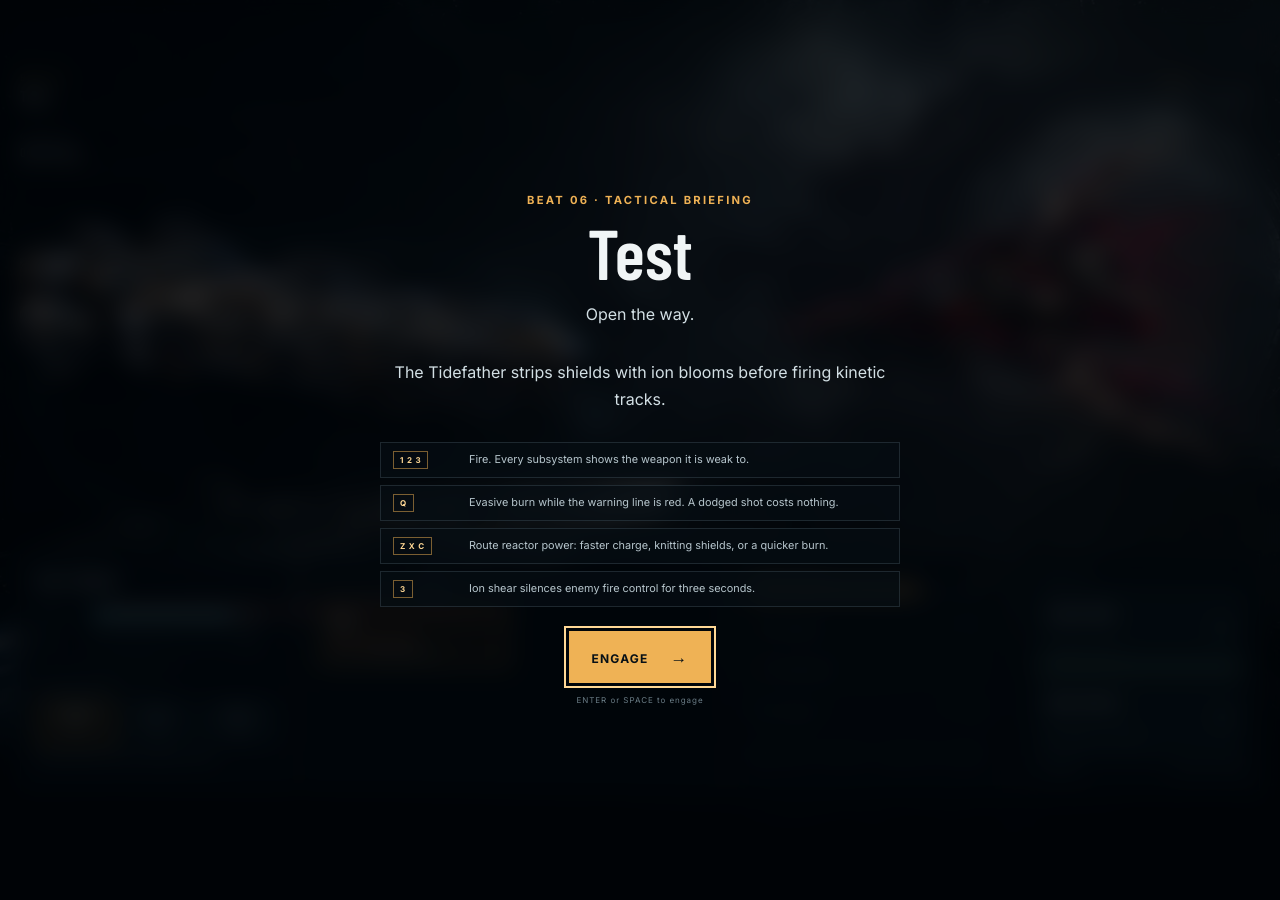
Test: combat input and simulation adversaries › retry clears a decision, delayed effects and cooldowns from a lost attempt
Click the button "Engage →" at (640, 657), box [570, 631, 710, 683]
Wait 8200 ms
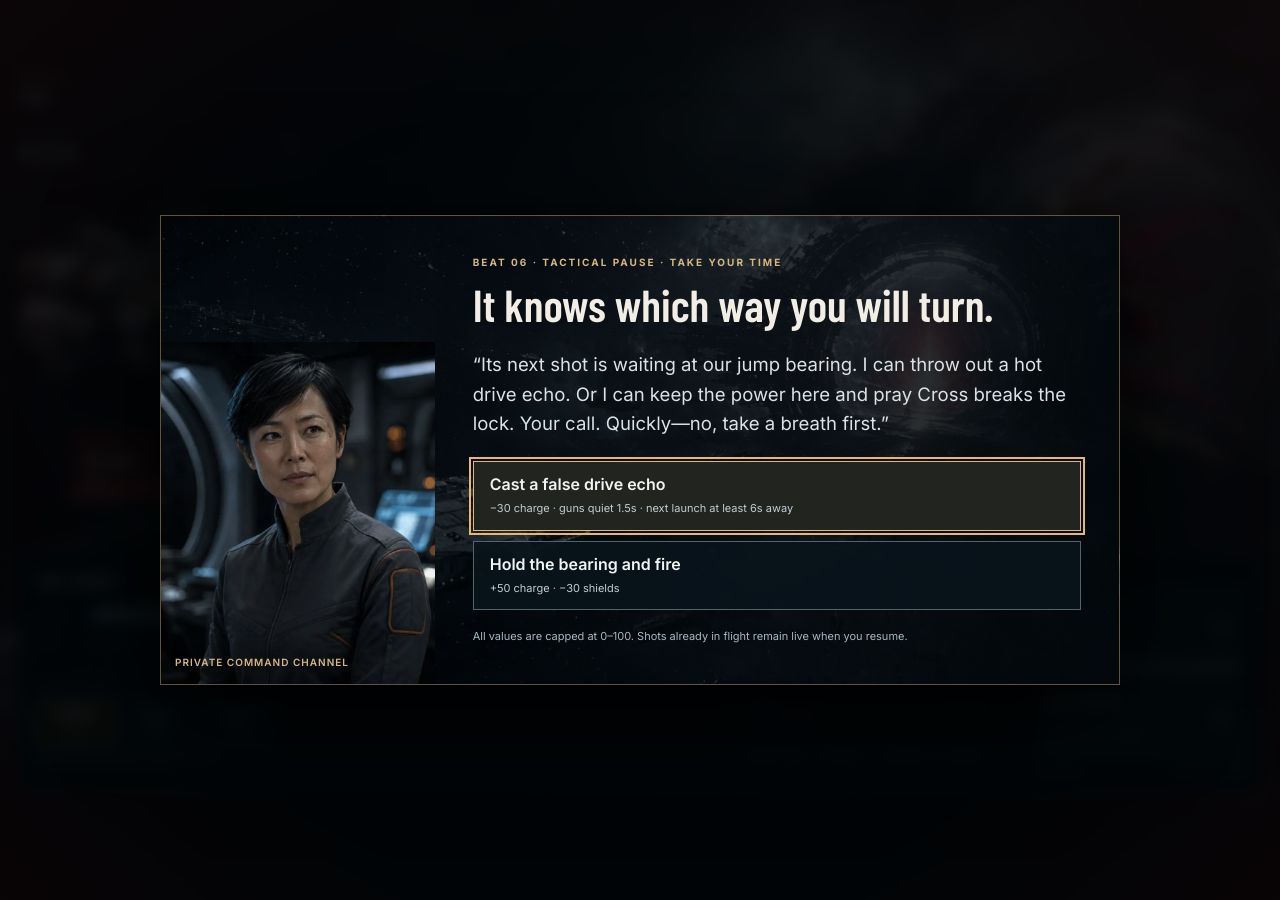
Click the button "Hold the bearing and fire +50 charge · −30 shields" at (585, 564), box [473, 541, 1081, 610]
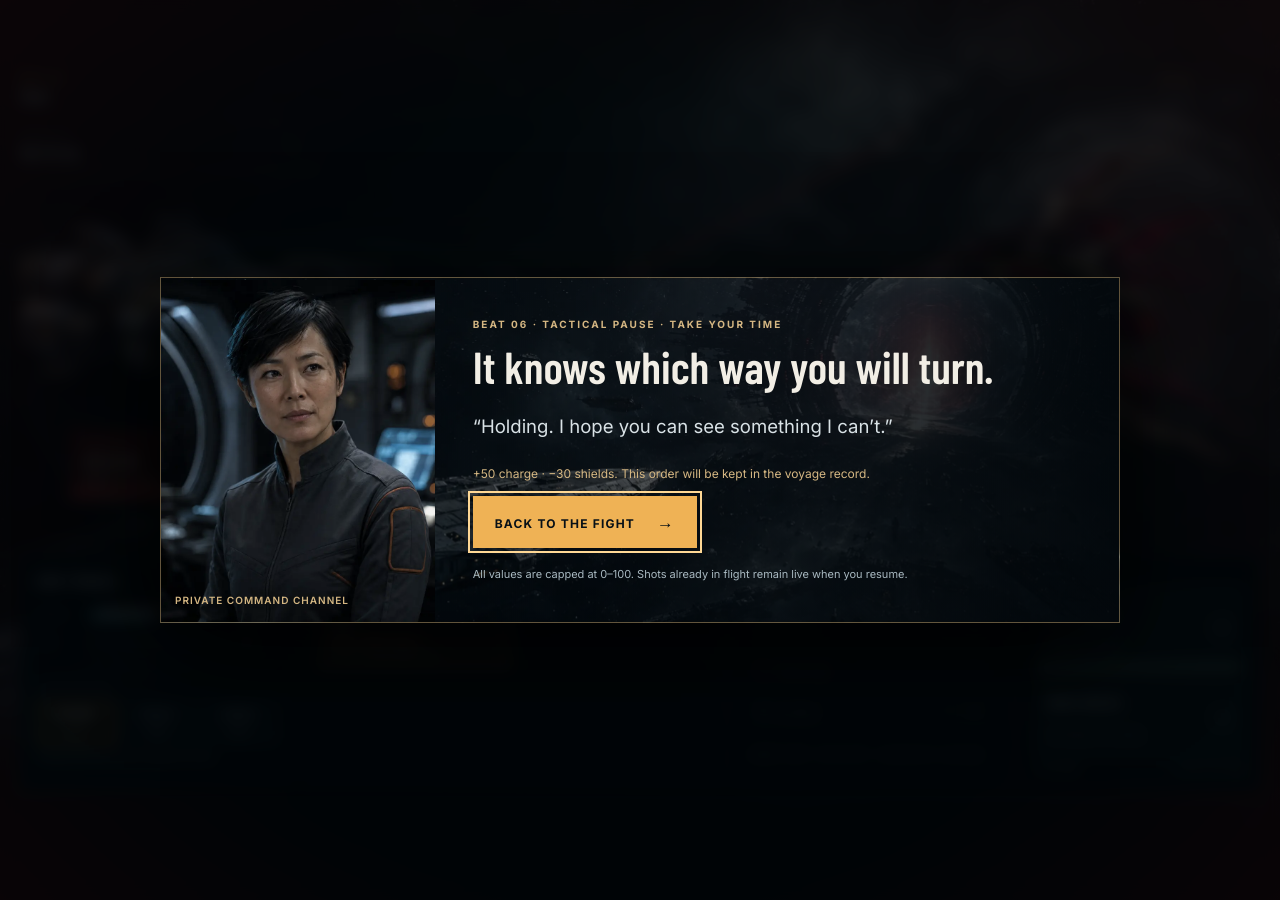
Click the button "Back to the fight →" at (585, 522), box [473, 496, 697, 548]
Wait 50000 ms
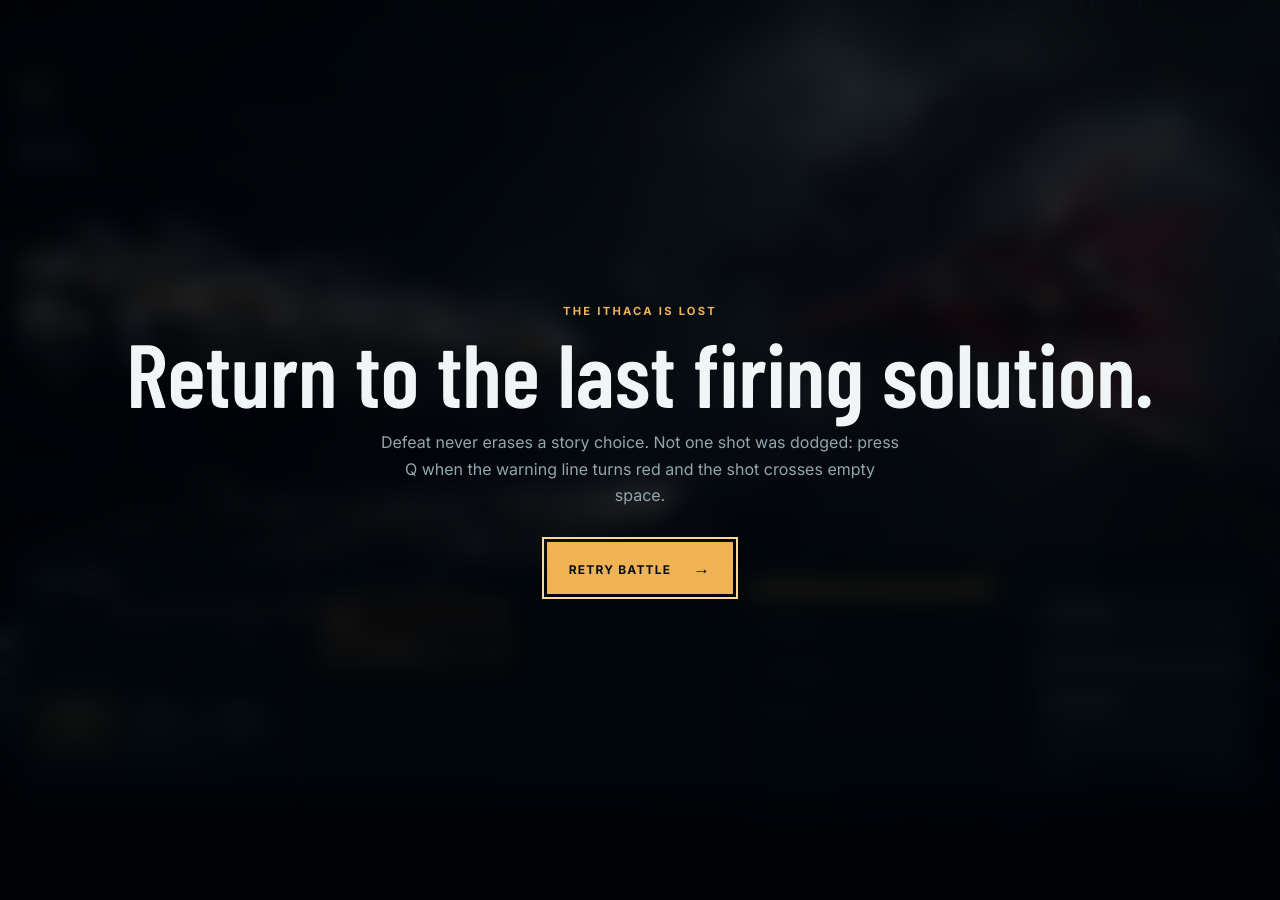
Now the dialog named "Battle lost" is shown
Click the button "Retry battle →" at (640, 568), box [547, 542, 733, 594]
Wait 8200 ms
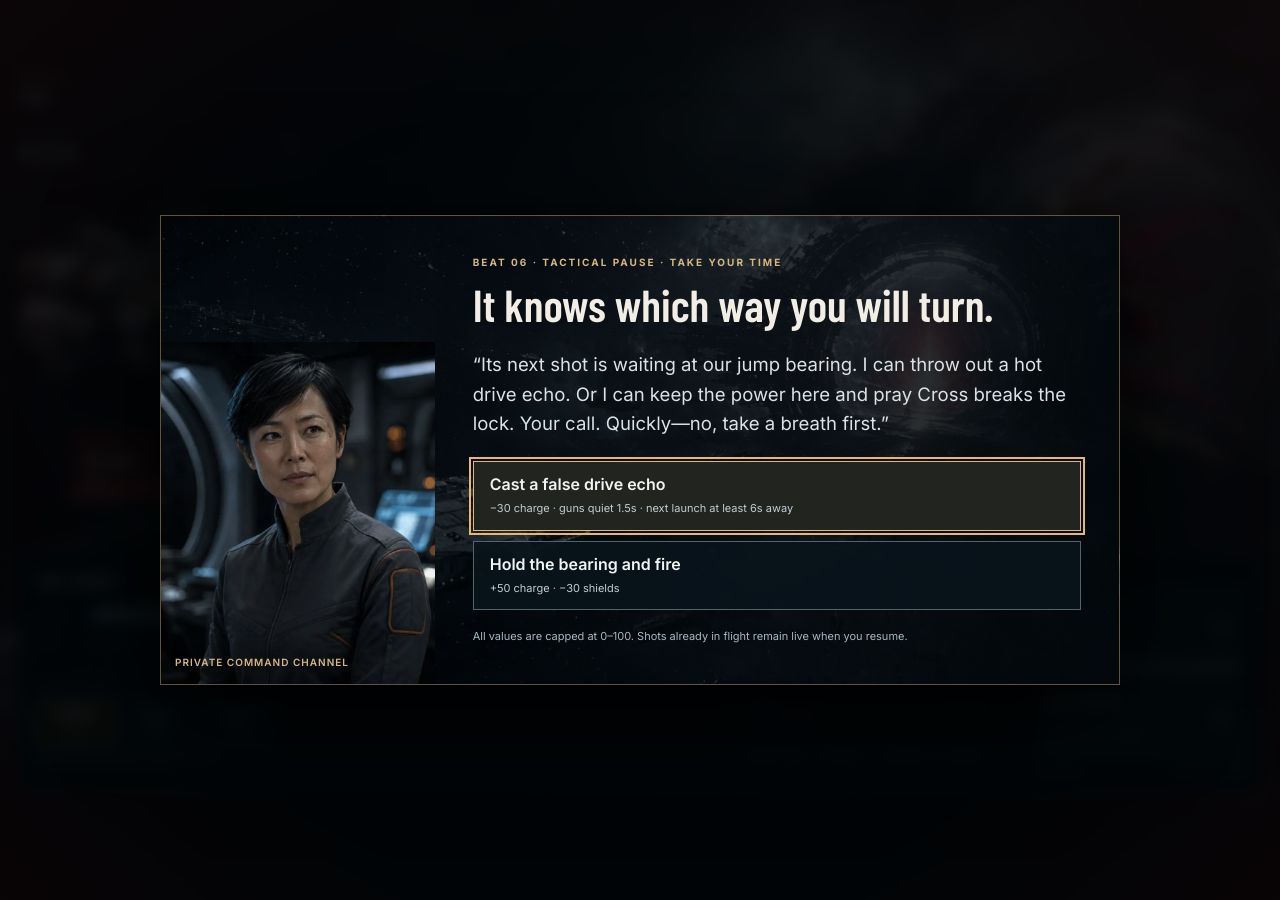
Now the button that starts with "Cast a false drive echo" is enabled, box [473, 461, 1081, 531]
